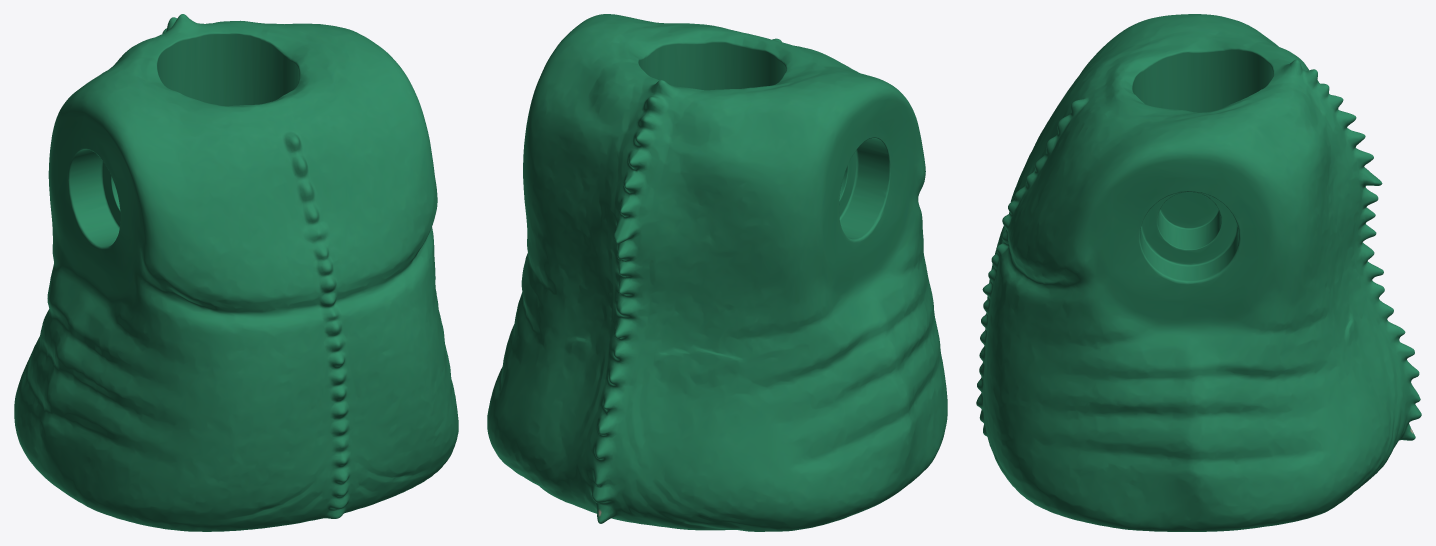
File: Buste_Cameleon.glb
The picture shows the model from 3 angles, left to right: view 1: azimuth 30°, elevation 25°; view 2: azimuth 150°, elevation 25°; view 3: azimuth 270°, elevation 25°; orthographic projection. The views are drawn at different scales.
Visible parts, largest first — view 1: Buste_Cameleon; view 2: Buste_Cameleon; view 3: Buste_Cameleon.
Boxes of the visible parts, x1,y1,x2,y2 form: Buste_Cameleon: (14,14,458,531); Buste_Cameleon: (487,14,947,531); Buste_Cameleon: (976,14,1421,531).
Size of the model in its own units: 3.94 by 3.89 by 4.06.
